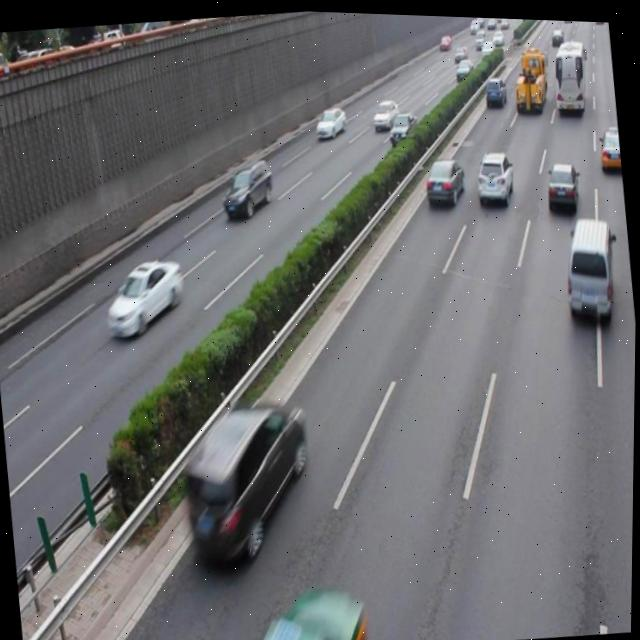car: (101, 252, 189, 342), (219, 153, 275, 216), (471, 143, 516, 205), (420, 150, 467, 206), (542, 156, 580, 213), (594, 122, 622, 169)
truck: (173, 392, 317, 565), (558, 207, 618, 317)
